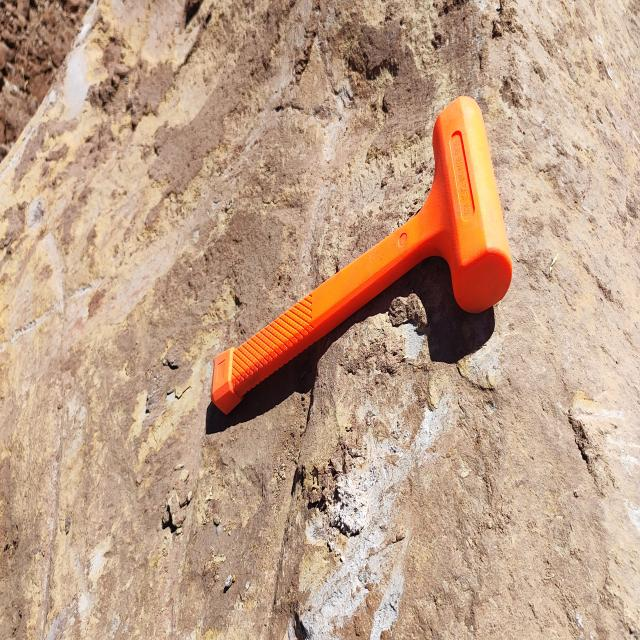Orange_hammer: (210, 94, 513, 417)
